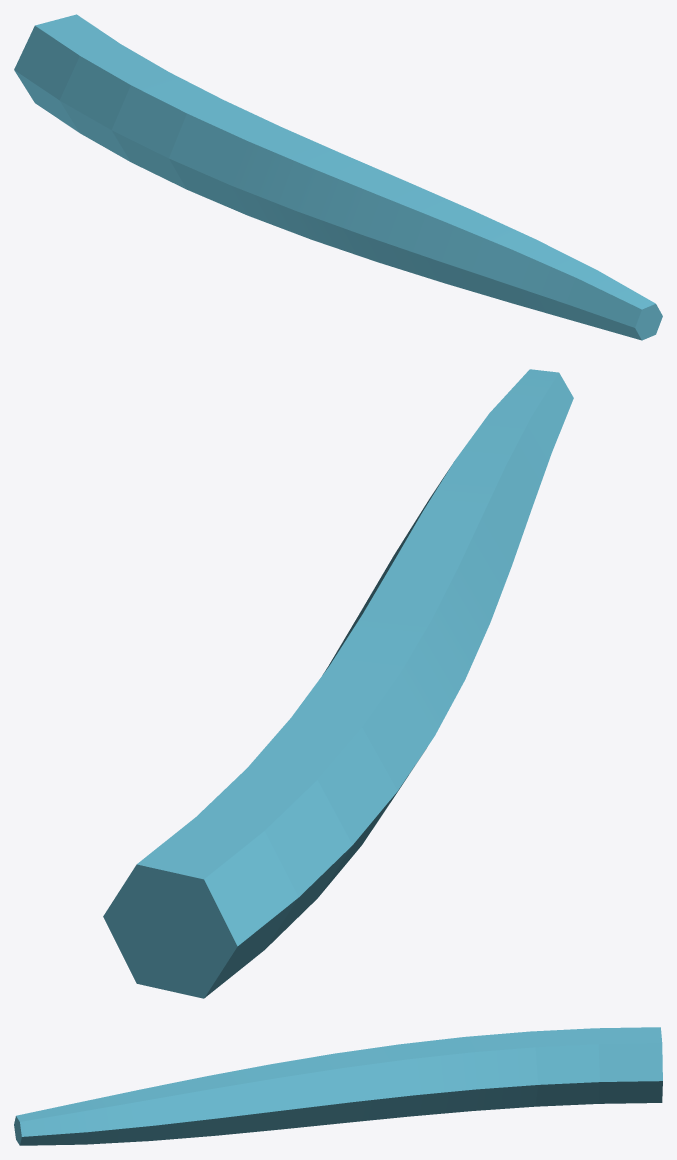
The model's file is blade-cutlass.glb.
3 views of the same model, one above another, from view 1: azimuth 30°, elevation 25°; view 2: azimuth 150°, elevation 25°; view 3: azimuth 270°, elevation 25° (orthographic). The views are drawn at different scales.
Parts seen in each view (by area): view 1: m; view 2: m; view 3: m.
Part boxes in pixels (bbox=[...]): m: bbox=[14, 14, 662, 340]; m: bbox=[103, 369, 573, 998]; m: bbox=[14, 1027, 662, 1145].
Bounding box in the file's own units: 0.0597 × 0.0189 × 0.1862.
